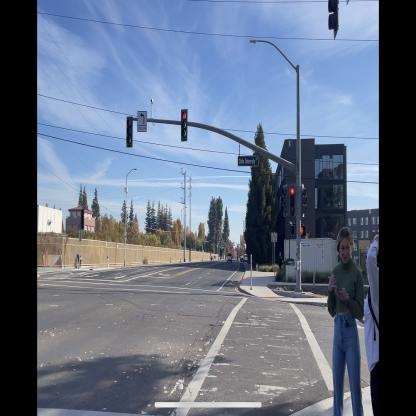left-red: (126, 115, 133, 149)
red: (288, 182, 297, 218), (180, 108, 188, 143)
